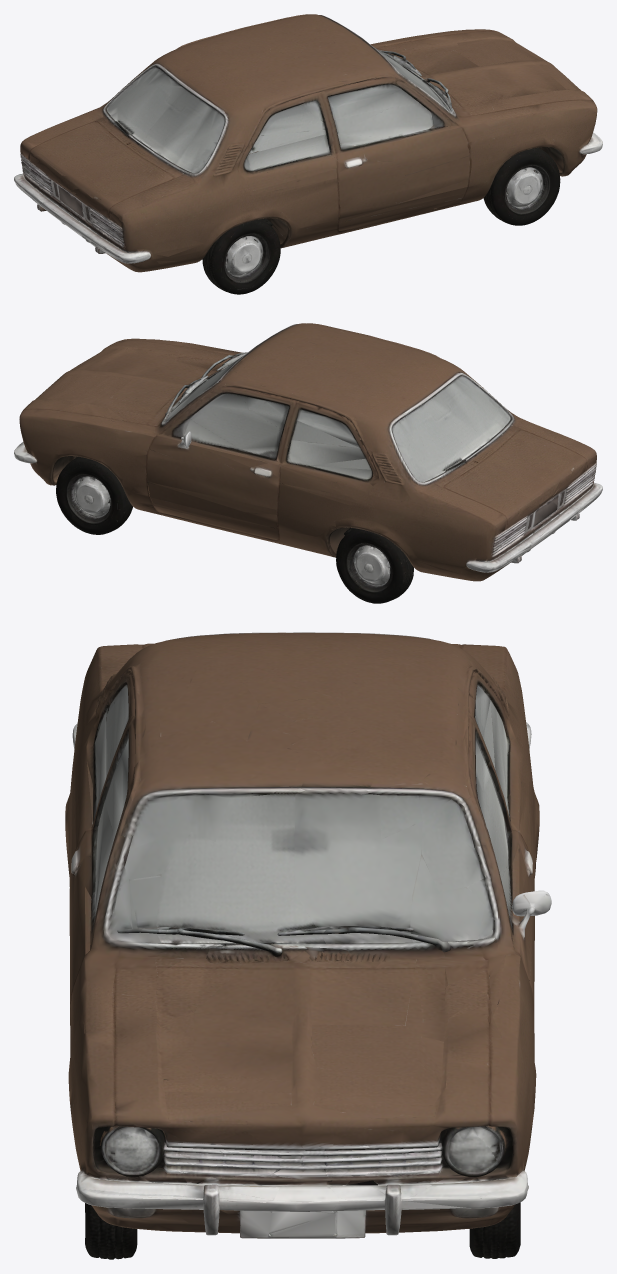
The model's file is lambari__01a1698c.glb.
3 renders of one model, top to bottom at view 1: azimuth 30°, elevation 25°; view 2: azimuth 150°, elevation 25°; view 3: azimuth 270°, elevation 25°, orthographic. The views are drawn at different scales.
Visible parts, largest first — view 1: lambari__01a1698c; view 2: lambari__01a1698c; view 3: lambari__01a1698c.
Boxes of the visible parts, left/top/right/bottom form: lambari__01a1698c: left=14, top=14, right=602, bottom=294; lambari__01a1698c: left=14, top=323, right=602, bottom=603; lambari__01a1698c: left=65, top=632, right=551, bottom=1259.
Size of the model in its own units: 4.12 by 1.45 by 1.76.
1 material, 1 textured.
